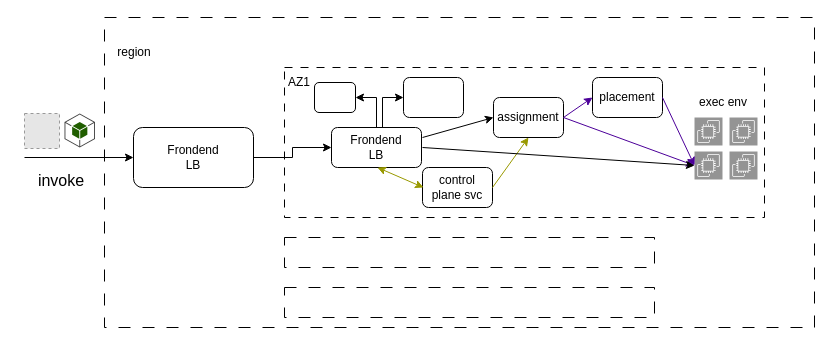
The diagram is 832 pixels wide and 345 high, and some of its shapes have lost their labels. Grey dashed boxes stand in for pictures. The centre of each missing label's shape, as x and y in pixels:
"auth" belongs at point (335, 97).
"counting" belongs at point (433, 97).
